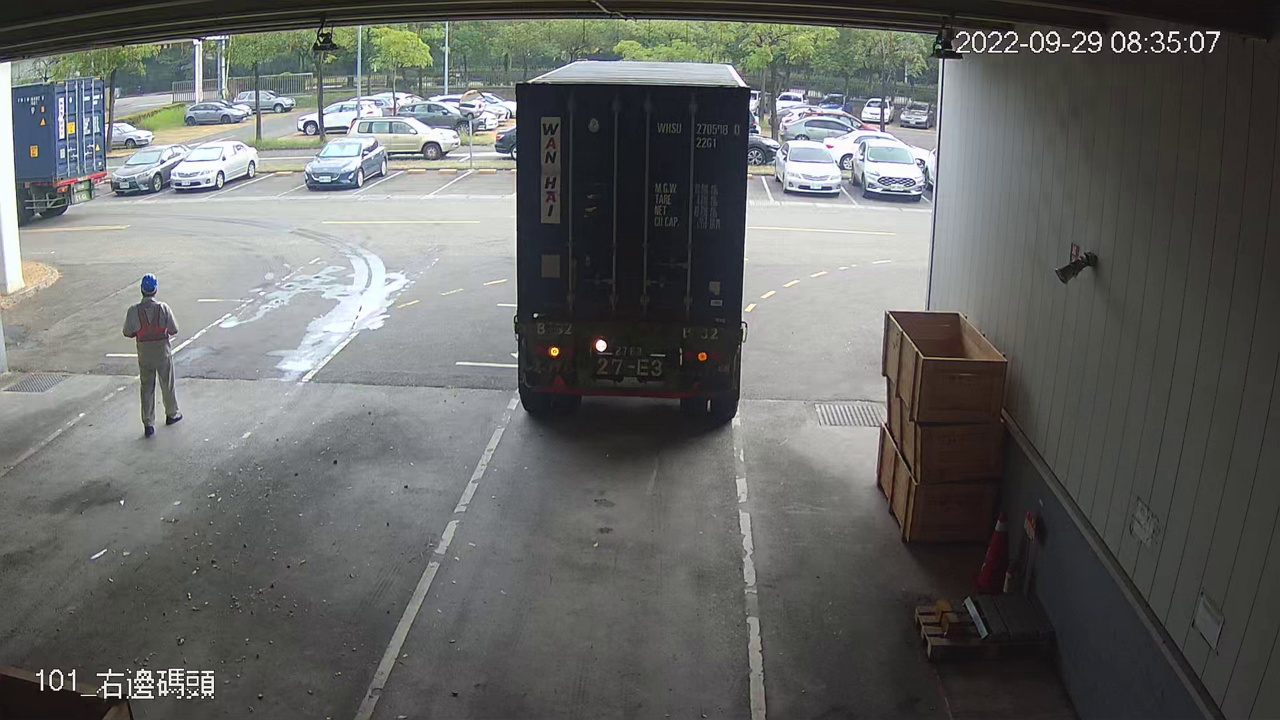container: (654, 115, 745, 153)
